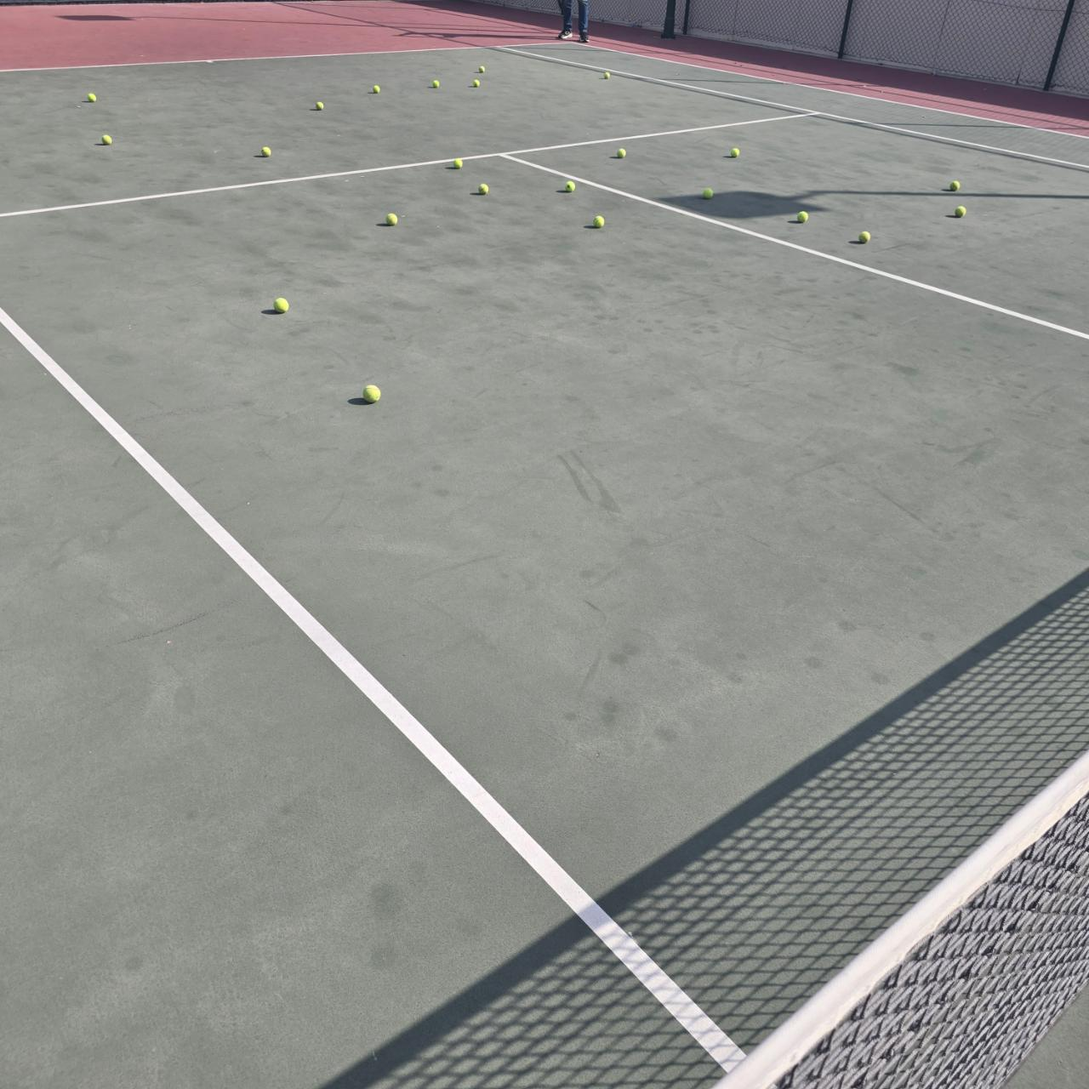tennis-ball: (362, 382, 380, 402), (272, 294, 288, 313), (795, 208, 808, 223), (858, 230, 870, 244), (385, 212, 397, 226), (593, 215, 605, 229), (954, 206, 967, 218), (260, 146, 272, 158), (564, 181, 576, 193), (949, 180, 961, 192), (101, 134, 113, 145), (478, 183, 489, 195), (730, 146, 741, 158), (314, 101, 325, 112), (702, 188, 713, 199), (87, 93, 98, 103), (453, 157, 463, 168), (617, 147, 626, 159), (372, 85, 381, 95), (432, 80, 439, 89), (474, 78, 480, 88), (478, 66, 486, 73), (604, 72, 610, 80)
